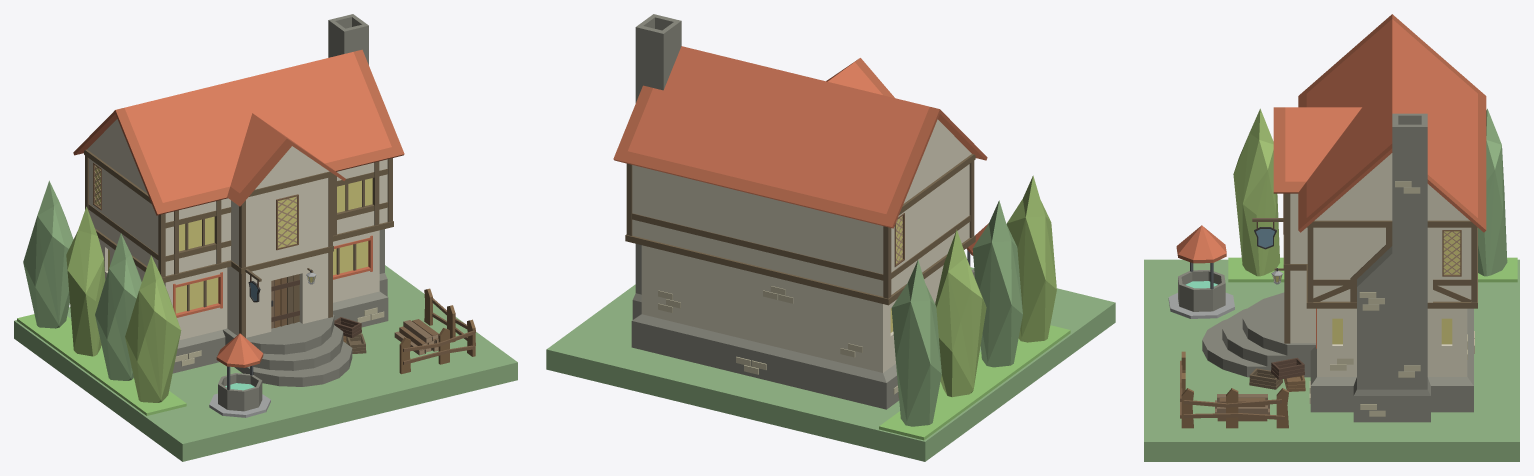
File: House_10.fbx
3 renders of one model, left to right at view 1: azimuth 30°, elevation 25°; view 2: azimuth 150°, elevation 25°; view 3: azimuth 270°, elevation 25°, orthographic. The views are drawn at different scales.
Visible parts, largest first — view 1: House_10; view 2: House_10; view 3: House_10.
Part boxes in pixels (x1,y1,x2,y2): House_10: (14, 14, 517, 461); House_10: (546, 14, 1115, 461); House_10: (1144, 14, 1519, 461).
Bounding box in the file's own units: 208 × 167 × 181.
Materials: 1 (1 with a texture image).
